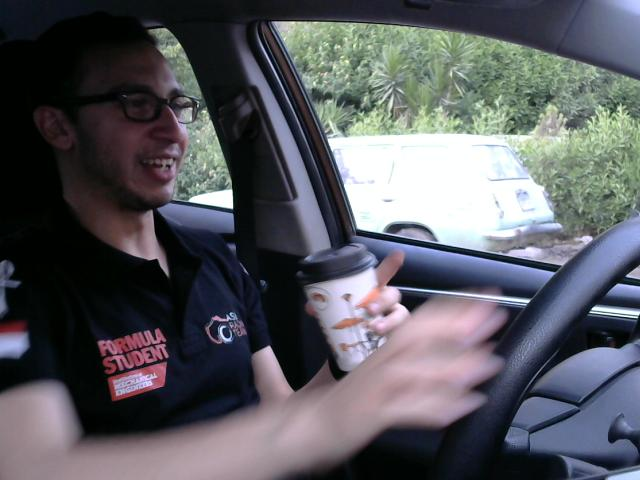Drinking: (293, 237, 399, 378)
